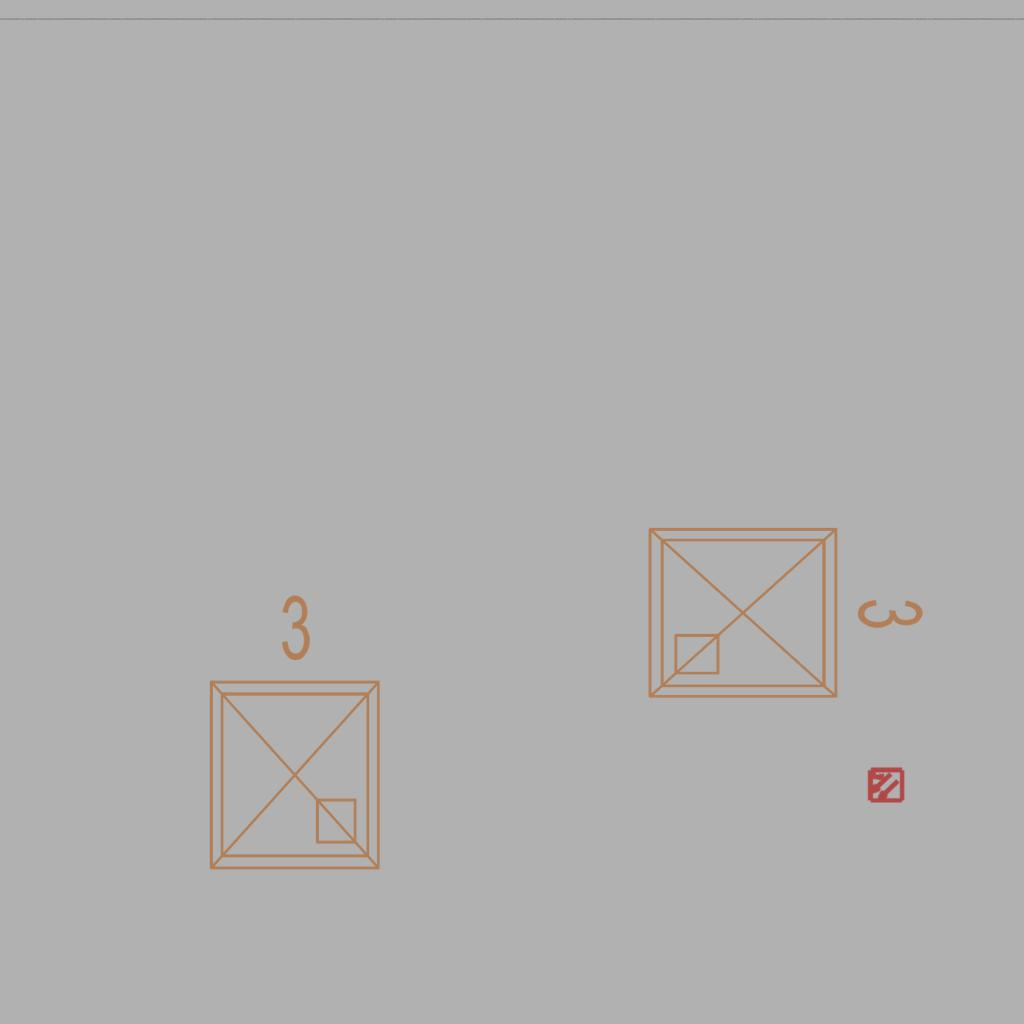Einbaudownlights_LED_Konferenzraeume: (634, 505, 934, 713), (187, 584, 395, 884)
OT_Multisensormelder_(Kombination_RMO_WMD): (857, 757, 913, 813)
